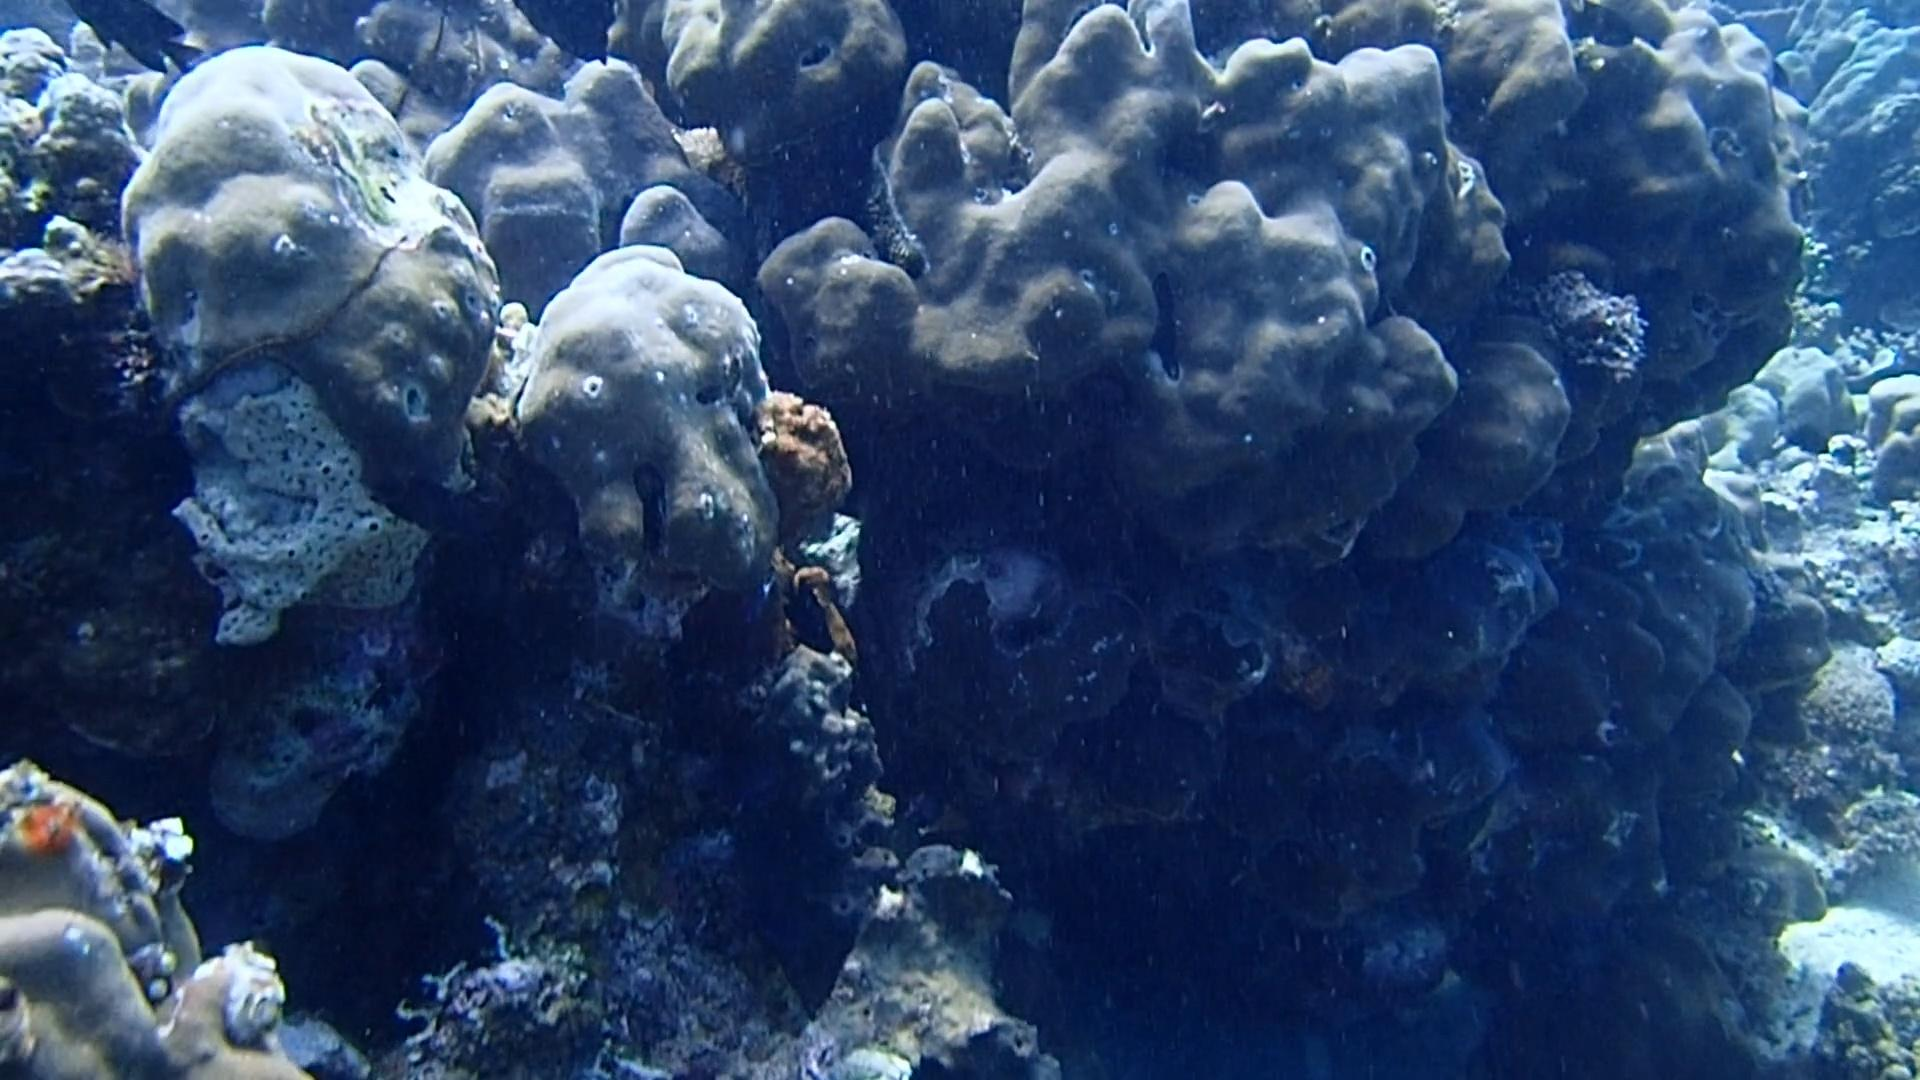Dark Fish: (54, 0, 210, 92), (771, 564, 839, 666), (1557, 0, 1644, 53)
